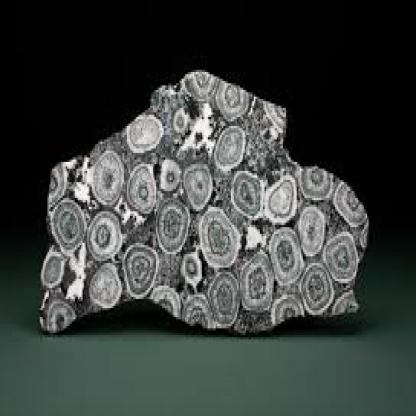Igneous_Diorite: (31, 63, 373, 337)
